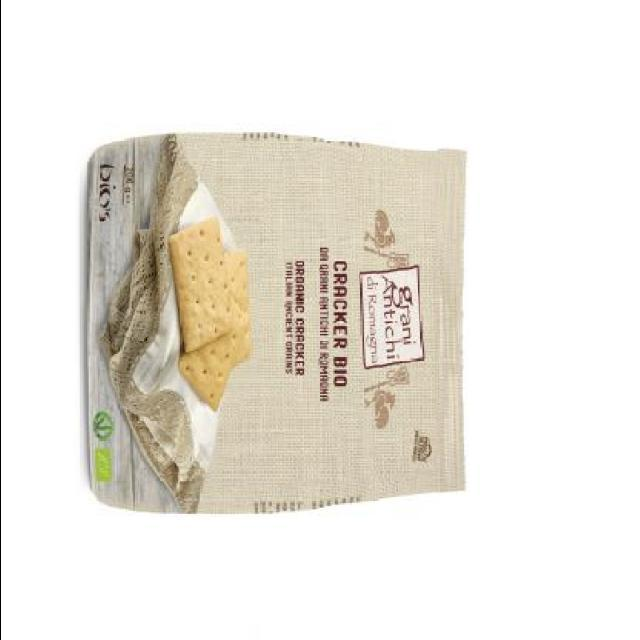Cracker: (76, 133, 472, 530)
